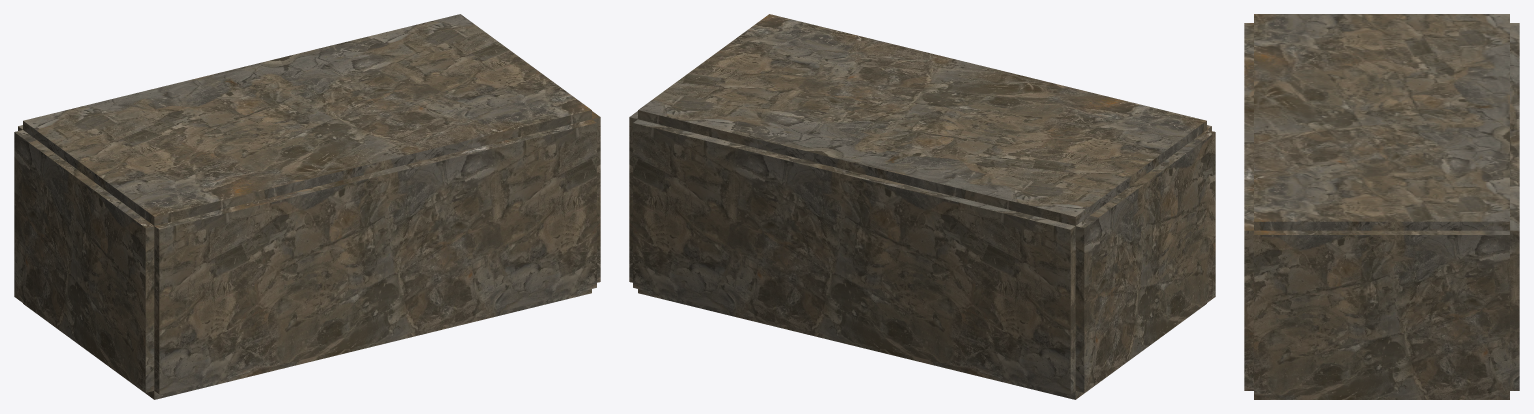
File: crypt_altar.glb
The picture shows the model from 3 angles, left to right: view 1: azimuth 30°, elevation 25°; view 2: azimuth 150°, elevation 25°; view 3: azimuth 270°, elevation 25°; orthographic projection. The views are drawn at different scales.
Parts seen in each view (by area): view 1: crypt_altar.001; view 2: crypt_altar.001; view 3: crypt_altar.001.
Boxes of the visible parts, x1,y1,x2,y2 form: crypt_altar.001: (14, 14, 600, 399); crypt_altar.001: (629, 14, 1215, 399); crypt_altar.001: (1244, 14, 1519, 399).
Bounding box in the file's own units: 2.6 × 0.9999 × 1.4.
Materials: 1 (1 with a texture image).
